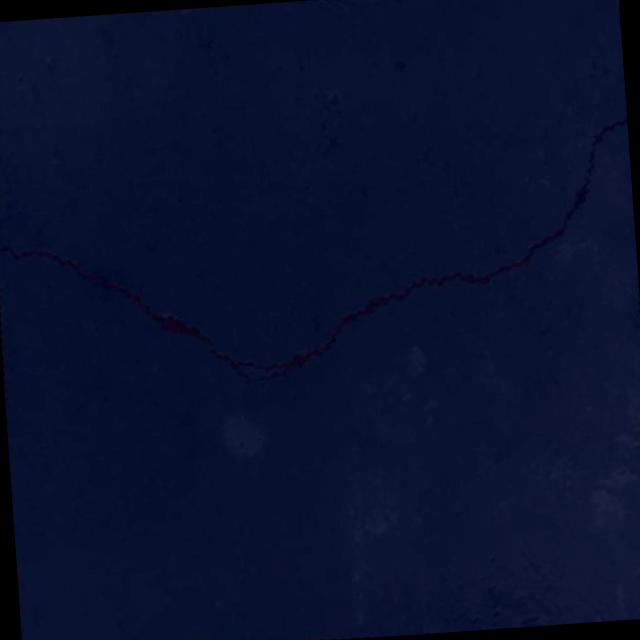crack: (0, 101, 640, 408), (0, 210, 35, 225)
